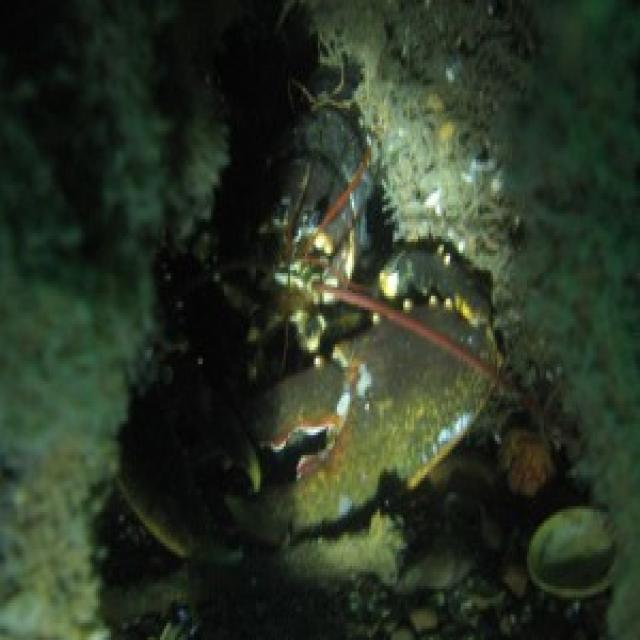lobsters: (166, 84, 498, 577)
